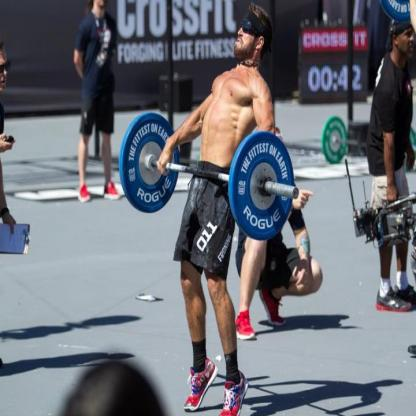barbell: (232, 132, 295, 243), (123, 113, 181, 215)
